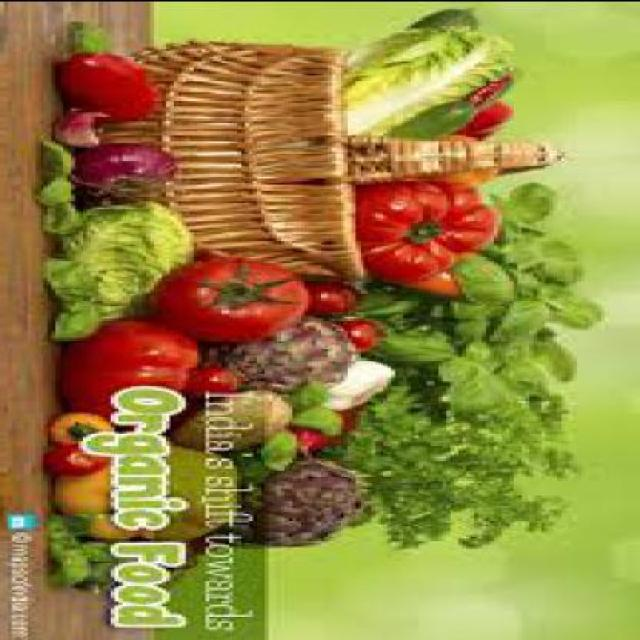BIODEGRADABLE: (370, 182, 604, 409), (332, 381, 585, 545), (47, 198, 202, 338), (343, 25, 522, 129), (56, 438, 241, 537), (356, 172, 502, 280), (63, 314, 214, 418), (205, 460, 368, 546), (154, 255, 312, 340), (222, 317, 363, 389), (178, 385, 300, 449), (59, 47, 162, 121), (76, 140, 190, 195), (35, 135, 88, 231), (55, 511, 118, 586), (442, 358, 518, 410), (331, 354, 407, 403), (458, 74, 517, 132), (458, 251, 525, 298), (296, 404, 364, 450), (392, 97, 482, 131), (47, 438, 115, 476), (59, 103, 115, 146), (498, 178, 557, 218), (549, 278, 605, 320), (51, 410, 118, 438), (335, 312, 388, 346), (533, 338, 581, 374), (296, 402, 349, 432), (414, 5, 486, 27), (189, 365, 245, 392), (311, 281, 364, 308), (74, 18, 114, 52)
